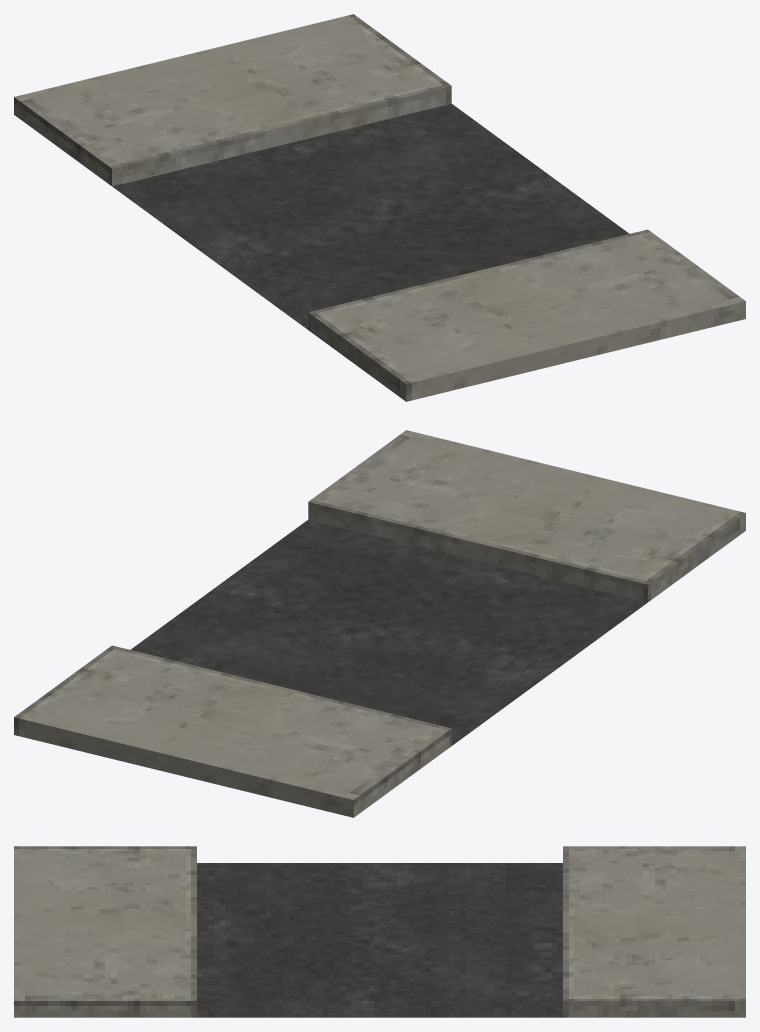
File: roadAsphalt_straight.fbx
3 renders of one model, top to bottom at view 1: azimuth 30°, elevation 25°; view 2: azimuth 150°, elevation 25°; view 3: azimuth 270°, elevation 25°, orthographic. The views are drawn at different scales.
Visible parts, largest first — view 1: roadAsphalt_straight; view 2: roadAsphalt_straight; view 3: roadAsphalt_straight.
Part boxes in pixels (box(x1,y1,x2,y2)): roadAsphalt_straight: box(14, 14, 745, 401); roadAsphalt_straight: box(14, 430, 745, 817); roadAsphalt_straight: box(14, 846, 745, 1017).
Size of the model in its own units: 10 by 0.5 by 20.
